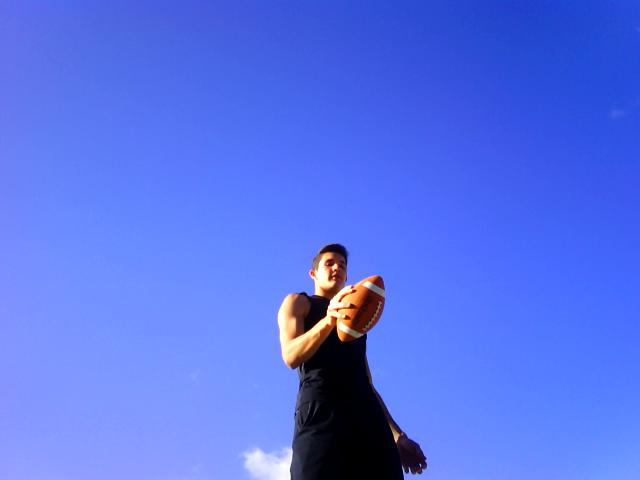footbal: (335, 273, 385, 343)
